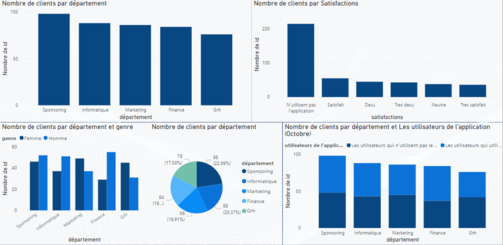

What the dashboard file says about the page in this screenshot:
{"tool":"powerbi","page":{"name":"Histogramme","canvas":[1280,720],"ordinal":0},"visuals":[{"type":"clusteredColumnChart","title":"Nombre de clients  par département et genre","fields":{"Category":["Employees.departement"],"Y":["CountNonNull(Employees.id)"],"Series":["Employees.sex"]},"box":[0,407.5,381.6,312.5],"z":0},{"type":"clusteredColumnChart","title":"Nombre de clients  par département","fields":{"Category":["Employees.departement"],"Y":["CountNonNull(Employees.id)"]},"box":[0,93.6,640.8,313.9],"z":1000},{"type":"columnChart","title":"Nombre de clients par département et Les utilisateurs de l''application (Octobre)","fields":{"Category":["Employees.departement"],"Y":["CountNonNull(Employees.id)"],"Series":["Employees.Les utilisateurs de l'application (Octobre)"]},"box":[720,407.5,560.2,312.5],"z":2000},{"type":"lineStackedColumnComboChart","title":"Nombre de clients par Satisfactions","fields":{"Y":["CountNonNull(Employees.id)"],"Category":["Employees.Satisfactions"]},"box":[640.8,93.6,639.4,313.9],"z":3000},{"type":"pieChart","title":"Nombre de clients par département","fields":{"Category":["Employees.departement"],"Y":["CountNonNull(Employees.id)"]},"box":[381.6,407.5,338.4,312.5],"z":4000},{"type":"card","fields":{"Values":["Employees.Mesure 4"]},"box":[4.3,17.3,1268.6,61.9],"z":5000}]}

Visuals, with their boxes on the page's 1280x720 design canvas (x1, y1, x2, y2). These are canvas units, not pixel positions in the 503x245 screenshot, which may show the page scaled, cropped or inside an application window:
"Nombre de clients  par département et genre" clusteredColumnChart: [0, 408, 382, 720]
"Nombre de clients  par département" clusteredColumnChart: [0, 94, 641, 408]
"Nombre de clients par département et Les utilisateurs de l''application (Octobre)" columnChart: [720, 408, 1280, 720]
"Nombre de clients par Satisfactions" lineStackedColumnComboChart: [641, 94, 1280, 408]
"Nombre de clients par département" pieChart: [382, 408, 720, 720]
card - Employees.Mesure 4: [4, 17, 1273, 79]
